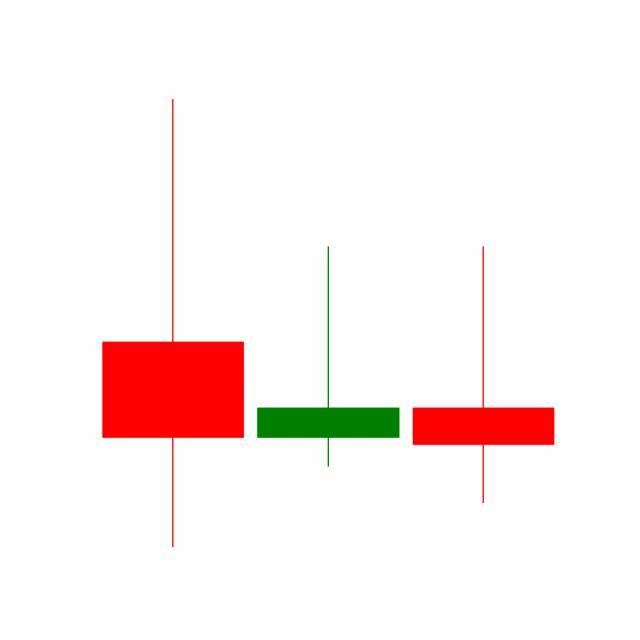Spinning Top: (250, 244, 407, 470)
